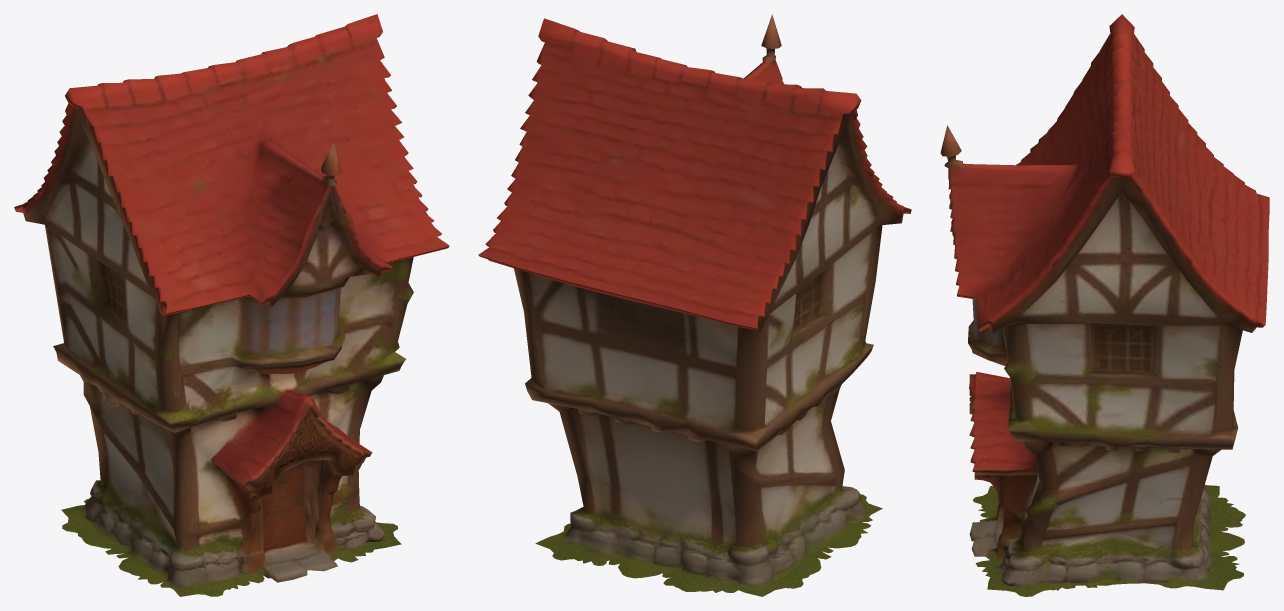
The model's file is house_timber_corner_tall.glb.
3 renders of one model, left to right at view 1: azimuth 30°, elevation 25°; view 2: azimuth 150°, elevation 25°; view 3: azimuth 270°, elevation 25°, orthographic. The views are drawn at different scales.
Parts seen in each view (by area): view 1: tripo_node_1ba0afa3-89cb-4287-83bb-c0ac3c751325; view 2: tripo_node_1ba0afa3-89cb-4287-83bb-c0ac3c751325; view 3: tripo_node_1ba0afa3-89cb-4287-83bb-c0ac3c751325.
Boxes of the visible parts, x1,y1,x2,y2 form: tripo_node_1ba0afa3-89cb-4287-83bb-c0ac3c751325: (14, 14, 449, 596); tripo_node_1ba0afa3-89cb-4287-83bb-c0ac3c751325: (478, 14, 911, 596); tripo_node_1ba0afa3-89cb-4287-83bb-c0ac3c751325: (940, 14, 1269, 596).
Size of the model in its own units: 8.24 by 12 by 7.91.
Materials: 1 (1 with a texture image).
